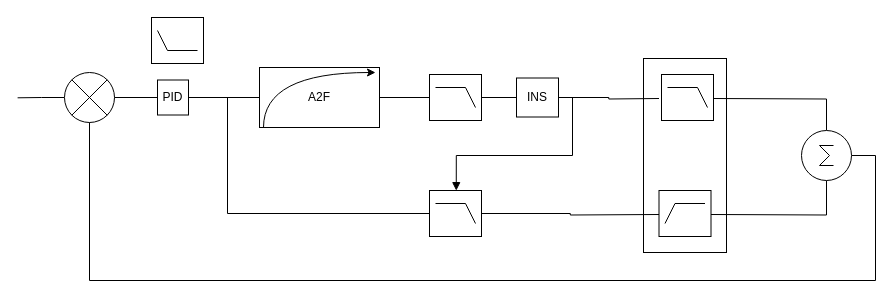
The diagram is 894 pixels wide and 299 high, and some of its shapes have lost their labels. Each missing label, with the centre of its shape:
Hajo: (455,97)
Modell: (455,213)
